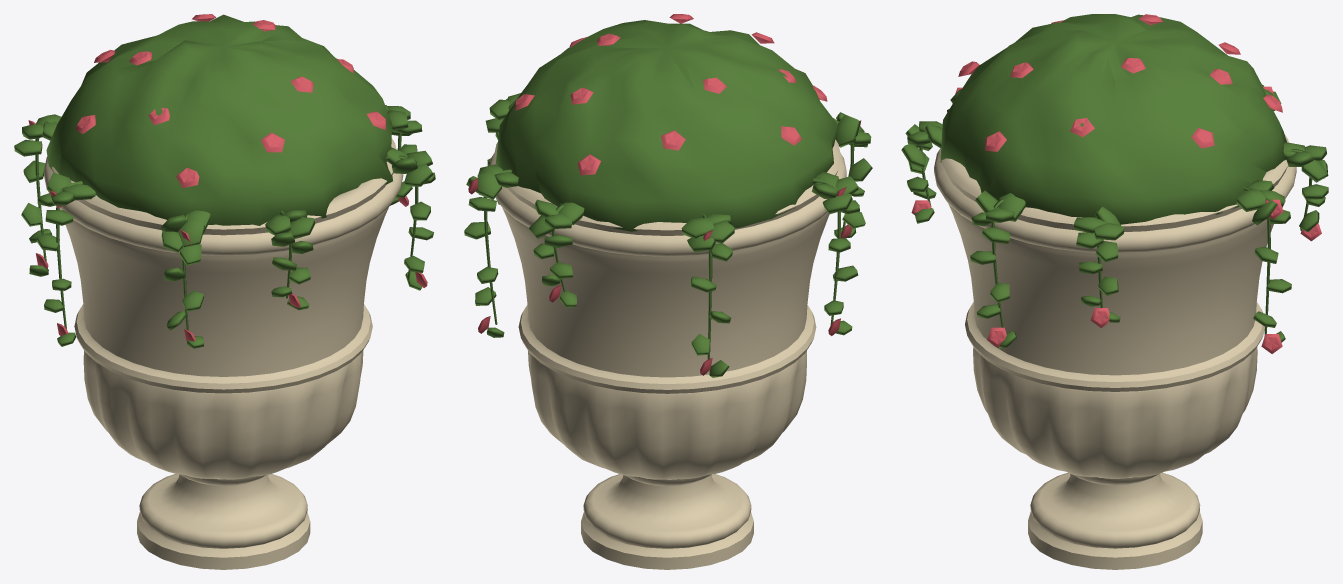
3 renders of one model, left to right at view 1: azimuth 30°, elevation 25°; view 2: azimuth 150°, elevation 25°; view 3: azimuth 270°, elevation 25°, orthographic.
Parts seen in each view (by area): view 1: Urn_Stone, Planting_Leaf, Flowers; view 2: Urn_Stone, Planting_Leaf, Flowers; view 3: Urn_Stone, Planting_Leaf, Flowers.
Part boxes in pixels (x1,y1,x2,y2): Urn_Stone: [44, 138, 403, 569]; Planting_Leaf: [14, 14, 435, 348]; Flowers: [28, 14, 427, 341]; Urn_Stone: [489, 139, 846, 569]; Planting_Leaf: [464, 20, 872, 377]; Flowers: [468, 14, 861, 375]; Urn_Stone: [934, 133, 1296, 569]; Planting_Leaf: [901, 14, 1328, 348]; Flowers: [911, 14, 1321, 353].
Bounding box in the file's own units: 1.02 × 1.29 × 1.
